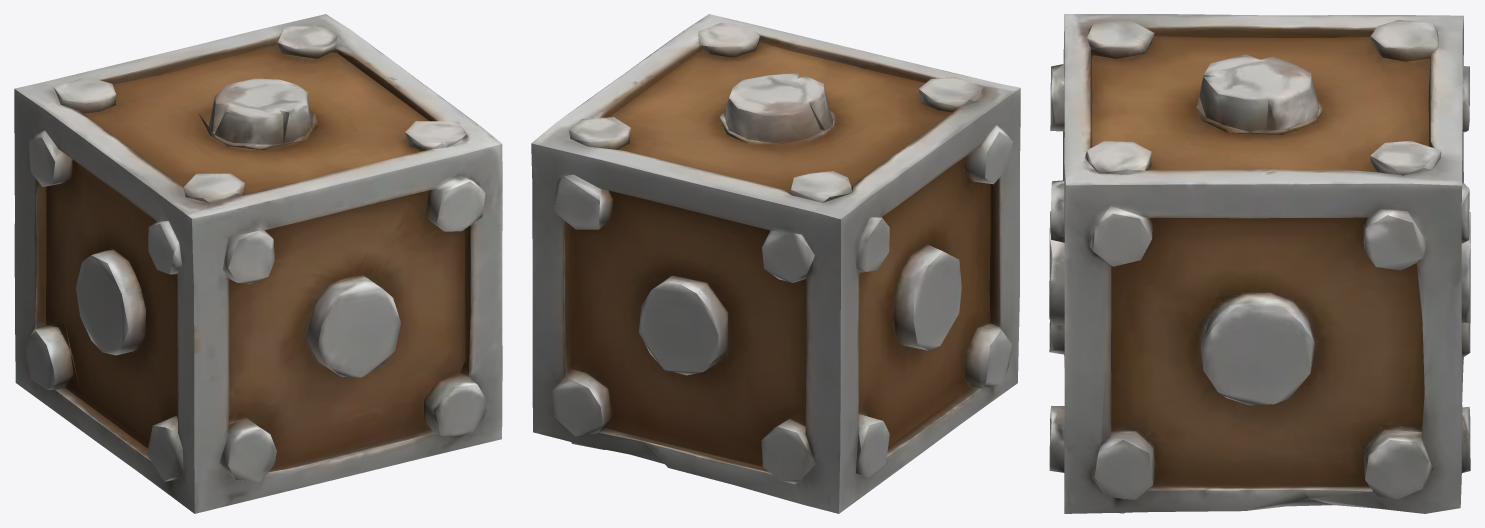
The model's file is m2MetalBlockV2.glb.
3 renders of one model, left to right at view 1: azimuth 30°, elevation 25°; view 2: azimuth 150°, elevation 25°; view 3: azimuth 270°, elevation 25°, orthographic. The views are drawn at different scales.
Parts seen in each view (by area): view 1: model; view 2: model; view 3: model.
Boxes of the visible parts, x1,y1,x2,y2 form: model: (14,14,502,513); model: (531,14,1020,513); model: (1049,14,1470,513).
Bounding box in the file's own units: 1.91 × 1.86 × 1.9.
Materials: 1 (1 with a texture image).
